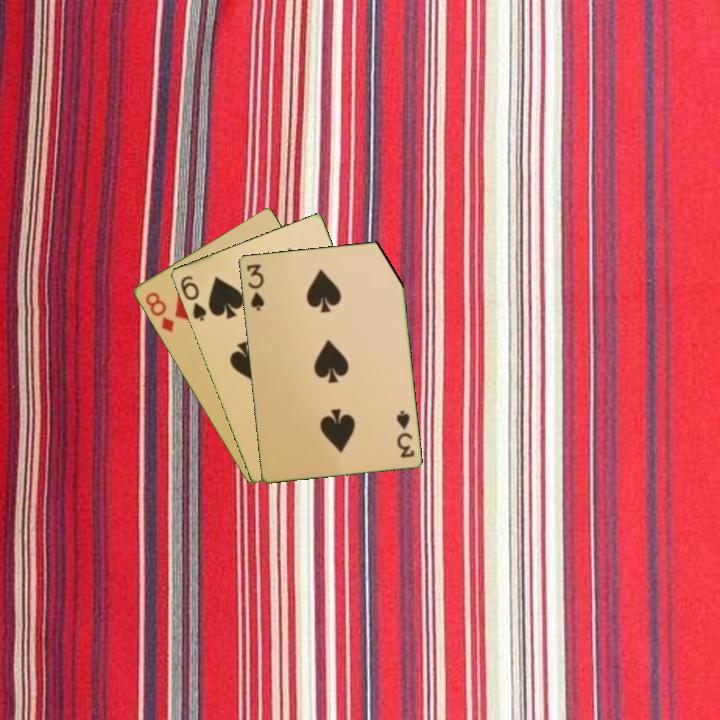3s: (392, 406, 417, 460), (243, 260, 267, 313)
6s: (176, 272, 209, 324)
8d: (141, 288, 177, 335)
